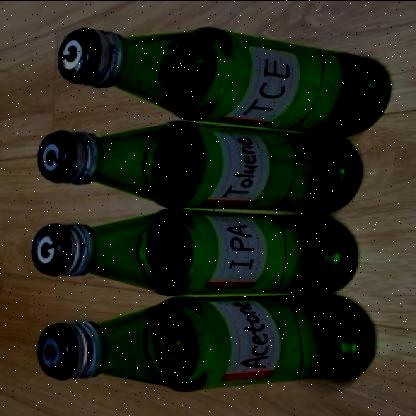Others: (58, 26, 386, 134), (38, 296, 369, 390), (37, 119, 358, 210), (33, 208, 351, 294)
